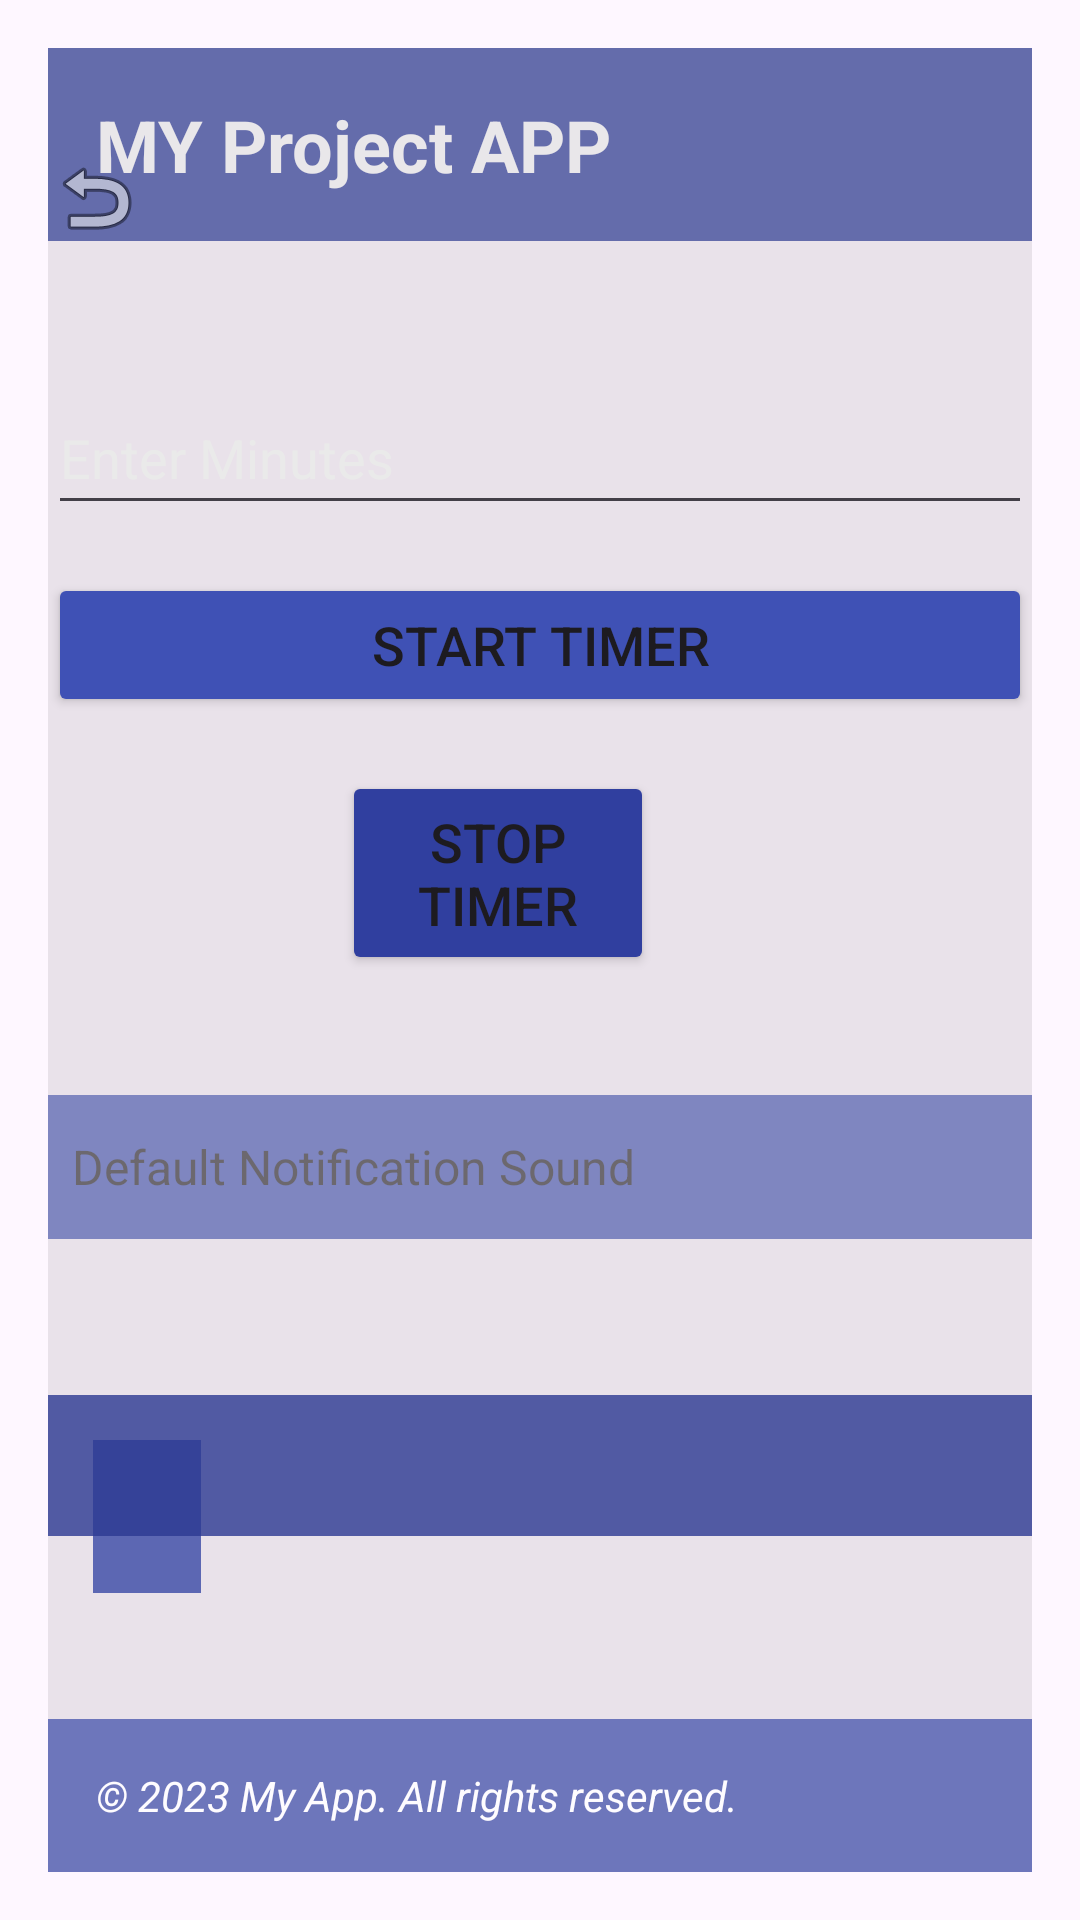

Screen size 1080x1920. Icon name, then its center in pixels as [x,y]:
revert: [96,195]
